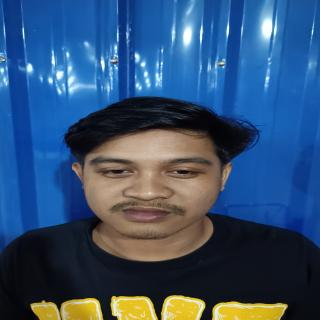Netral: (77, 125, 224, 245)
